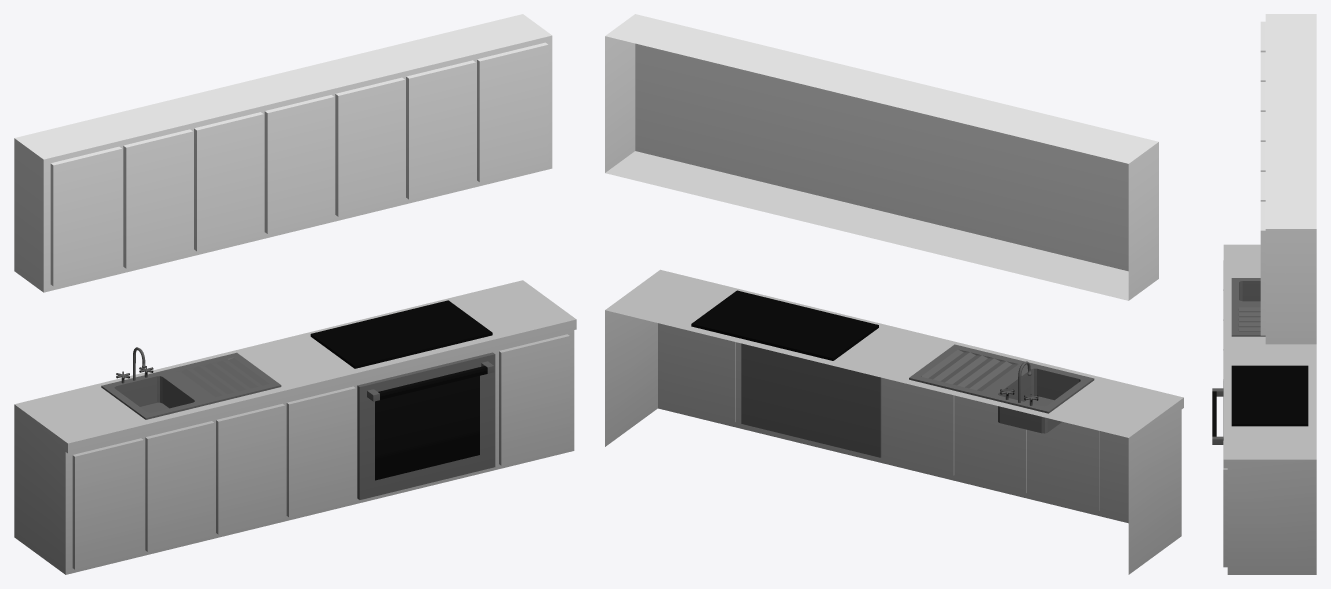
The model's file is KitchenSinkCupboards.fbx.
The picture shows the model from 3 angles, left to right: view 1: azimuth 30°, elevation 25°; view 2: azimuth 150°, elevation 25°; view 3: azimuth 270°, elevation 25°; orthographic projection. The views are drawn at different scales.
Visible parts, largest first — view 1: KitchCupboardsSink; view 2: KitchCupboardsSink; view 3: KitchCupboardsSink.
Boxes of the visible parts, x1,y1,x2,y2 form: KitchCupboardsSink: [14, 14, 576, 574]; KitchCupboardsSink: [605, 14, 1183, 574]; KitchCupboardsSink: [1212, 14, 1316, 574].
Bounding box in the file's own units: 400 × 300 × 81.9.
